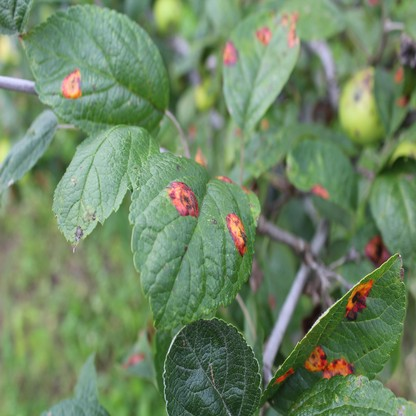rust: (305, 346, 353, 382), (346, 278, 373, 321), (169, 182, 198, 215), (227, 212, 246, 254), (61, 71, 82, 98), (281, 13, 297, 48), (274, 367, 293, 383), (224, 41, 238, 62), (257, 26, 271, 42), (312, 185, 328, 198), (195, 147, 205, 167), (215, 173, 233, 183), (395, 66, 403, 82), (397, 94, 405, 105), (242, 185, 249, 195)
